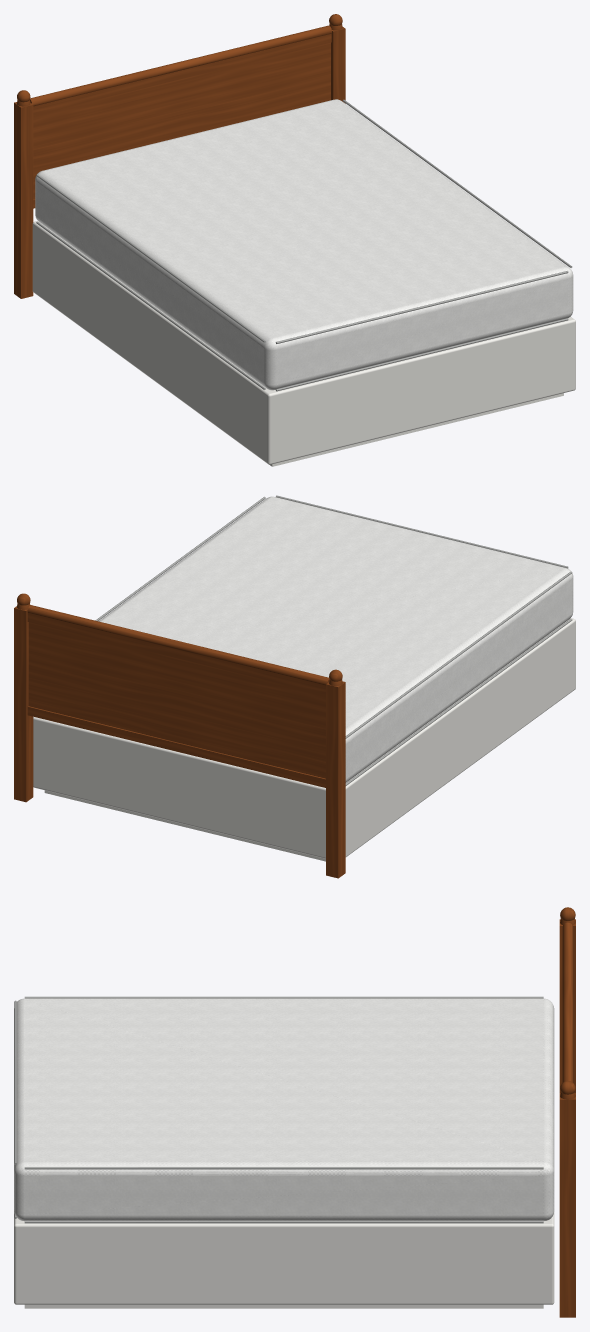
File: cama.glb
The picture shows the model from 3 angles, top to bottom: view 1: azimuth 30°, elevation 25°; view 2: azimuth 150°, elevation 25°; view 3: azimuth 270°, elevation 25°; orthographic projection. The views are drawn at different scales.
Parts seen in each view (by area): view 1: cama; view 2: cama; view 3: cama.
Part boxes in pixels (x1,y1,x2,y2): cama: (14,14,575,466); cama: (14,495,575,878); cama: (14,907,575,1317).
Bounding box in the file's own units: 1.58 × 0.95 × 2.08.
4 materials, 2 textured.
